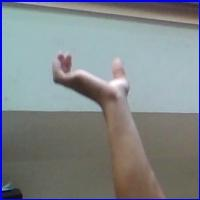B: (49, 49, 139, 102)
